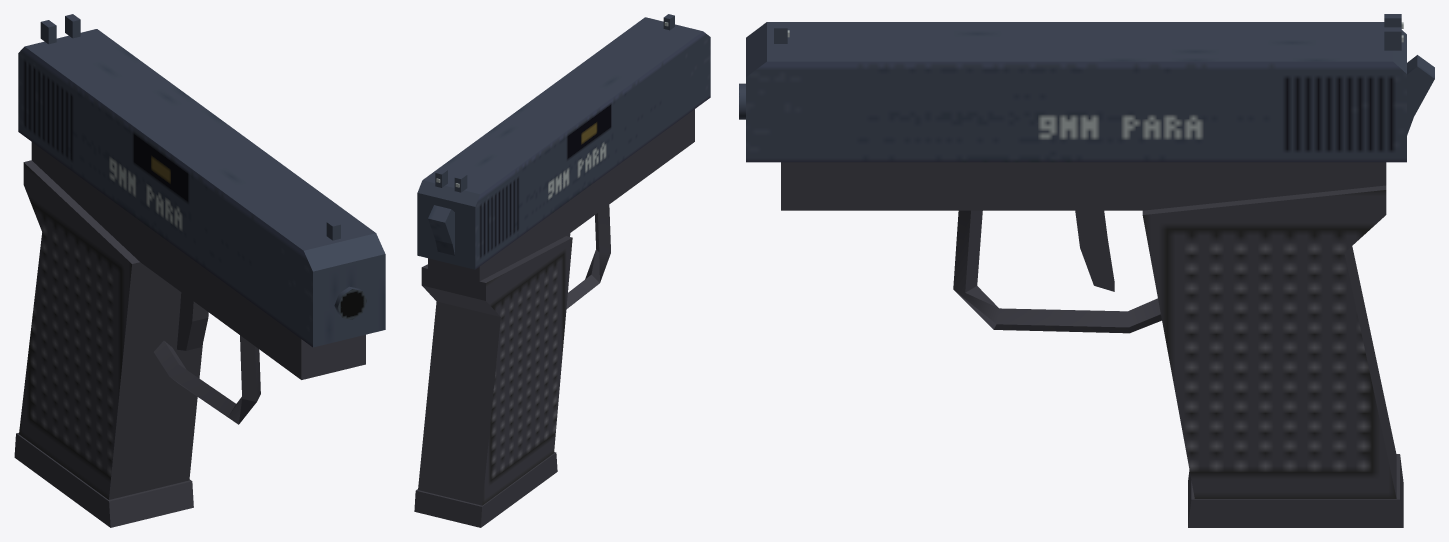
The model's file is pistol.obj.
3 views of the same model, side by side, from view 1: azimuth 30°, elevation 25°; view 2: azimuth 150°, elevation 25°; view 3: azimuth 270°, elevation 25° (orthographic). The views are drawn at different scales.
Parts seen in each view (by area): view 1: pistol, pistol_slide, pistol_magazine, pistol_trigger; view 2: pistol, pistol_slide, pistol_magazine, pistol_hammer; view 3: pistol, pistol_slide, pistol_magazine, pistol_trigger, pistol_hammer.
Part boxes in pixels (<box>): pistol: <box>19,142,365,499</box>; pistol_slide: <box>18,14,385,347</box>; pistol_magazine: <box>14,433,193,527</box>; pistol_trigger: <box>177,292,208,350</box>; pistol: <box>418,109,694,505</box>; pistol_slide: <box>417,14,710,269</box>; pistol_magazine: <box>414,452,557,527</box>; pistol_hammer: <box>428,205,454,255</box>; pistol: <box>781,162,1396,498</box>; pistol_slide: <box>739,14,1406,162</box>; pistol_magazine: <box>1188,454,1403,527</box>; pistol_trigger: <box>1075,210,1114,291</box>; pistol_hammer: <box>1407,55,1434,135</box>.
Bounding box in the file's own units: 0.031 × 0.153 × 0.2.
Materials: 1 (1 with a texture image).
